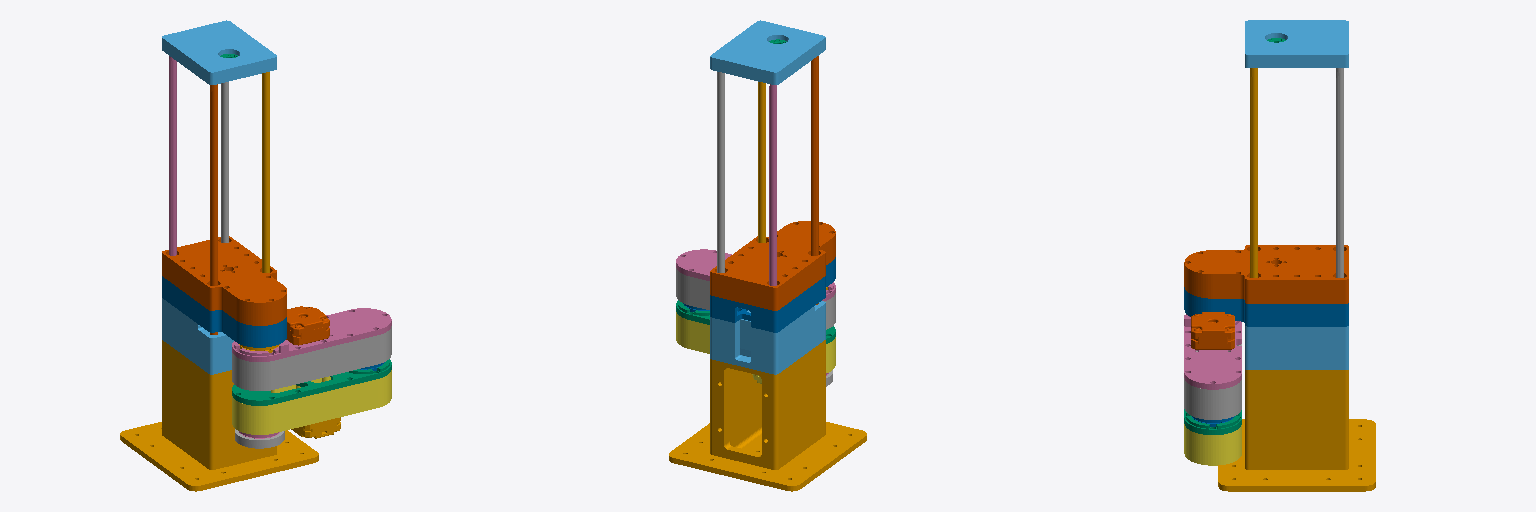
--- Render facts (derived) ---
3 views of the same robot in one strip: view 1: azimuth 30°, elevation 25°; view 2: azimuth 150°, elevation 25°; view 3: azimuth 270°, elevation 25° (orthographic).
Model URDF with 25 links and 24 joints (3 revolute, 1 prismatic, 20 fixed), rooted at base, posed all joints at 0.
Links seen in each view (by area): view 1: base, l1_platform_top, l3_bottom, anti_wobble, l2_bottom, l2_top, z_axis_mount, l1_platform_bottom, l3_top, linear_rod_1, linear_rod_4, linear_rod_2 (+3 smaller); view 2: base, l1_platform_top, anti_wobble, z_axis_mount, l1_platform_bottom, linear_rod_2, linear_rod_3, linear_rod_1, linear_rod_4, l2_bottom, l3_bottom, l2_top (+1 smaller); view 3: base, l1_platform_top, anti_wobble, z_axis_mount, l1_platform_bottom, l2_top, l2_bottom, l3_bottom, linear_rod_3, linear_rod_4, l3_stepper, l3_top.
Boxes of the visible links, left/top/right/bottom form: base: left=120, top=340, right=318, bottom=491; l1_platform_top: left=162, top=236, right=286, bottom=325; l3_bottom: left=232, top=370, right=391, bottom=434; anti_wobble: left=162, top=20, right=276, bottom=84; l2_bottom: left=232, top=326, right=391, bottom=390; l2_top: left=232, top=308, right=391, bottom=361; z_axis_mount: left=162, top=298, right=233, bottom=374; l1_platform_bottom: left=162, top=276, right=286, bottom=347; l3_top: left=232, top=359, right=391, bottom=405; linear_rod_1: left=210, top=84, right=217, bottom=334; linear_rod_4: left=262, top=72, right=269, bottom=272; linear_rod_2: left=169, top=56, right=176, bottom=255; base: left=669, top=340, right=866, bottom=491; l1_platform_top: left=710, top=221, right=835, bottom=310; anti_wobble: left=710, top=20, right=825, bottom=84; z_axis_mount: left=710, top=301, right=825, bottom=374; l1_platform_bottom: left=710, top=257, right=835, bottom=332; linear_rod_2: left=769, top=84, right=776, bottom=285; linear_rod_3: left=717, top=72, right=724, bottom=272; linear_rod_1: left=811, top=56, right=818, bottom=304; linear_rod_4: left=758, top=82, right=765, bottom=242; l2_bottom: left=676, top=268, right=835, bottom=329; l3_bottom: left=676, top=312, right=835, bottom=372; l2_top: left=676, top=249, right=835, bottom=300; base: left=1218, top=370, right=1375, bottom=491; l1_platform_top: left=1184, top=245, right=1348, bottom=303; anti_wobble: left=1245, top=20, right=1348, bottom=67; z_axis_mount: left=1245, top=326, right=1348, bottom=369; l1_platform_bottom: left=1184, top=287, right=1348, bottom=326; l2_top: left=1184, top=314, right=1241, bottom=389; l2_bottom: left=1184, top=344, right=1241, bottom=419; l3_bottom: left=1184, top=424, right=1241, bottom=465; linear_rod_3: left=1336, top=68, right=1343, bottom=277; linear_rod_4: left=1250, top=68, right=1257, bottom=277; l3_stepper: left=1191, top=312, right=1234, bottom=349; l3_top: left=1184, top=409, right=1241, bottom=434.
Size in the robot's own frame: 0.2225 by 0.1825 by 0.443 metres.
24 mesh visuals loaded from 18 distinct referenced files (17 binary STL); not drawn: 1 (reference not matched to a file when rendering).

The robot description file, URDF, robot "URDF":
<?xml version='1.0' encoding='utf-8'?>
<robot name="URDF">
    <link name="base">
        <inertial>
            <origin xyz="0.00015122651304084374 -0.0031189903972328945 0.04444615249588057" rpy="0.0 0.0 0.0" />
            <mass value="4.290391579347167" />
            <inertia ixx="0.010475179799747623" iyy="0.01011111532060361" izz="0.009773277269669556" ixy="-1.4675675020688755e-05" iyz="0.00023916465747799863" ixz="-3.676367466755517e-05" />
        </inertial>
        <visual name="base_visual">
            <origin xyz="0.0 0.0 0.0" rpy="0.0 0.0 0.0" />
            <geometry>
                <mesh filename="CAD/base.stl" scale="0.001 0.001 0.001" />
            </geometry>
        </visual>
        <collision name="base_collision">
            <origin xyz="0.0 0.0 0.0" rpy="0.0 0.0 0.0" />
            <geometry>
                <mesh filename="CAD/base.stl" scale="0.001 0.001 0.001" />
            </geometry>
        </collision>
    </link>
    <link name="z_axis_mount">
        <inertial>
            <origin xyz="-0.025336281060581275 -0.026473424084121407 -0.019149167134302817" rpy="0.0 -0.0 0.0" />
            <mass value="1.219346825267376" />
            <inertia ixx="0.0016285382162475291" iyy="0.0012017263657605887" izz="0.0023628340659233235" ixy="-1.6015951104122795e-05" iyz="5.947666844051728e-07" ixz="7.251262544824303e-06" />
        </inertial>
        <visual name="z_axis_mount_visual">
            <origin xyz="-0.02600000000000002 -0.027500000000000035 -1.7763568394002505e-17" rpy="-3.141592653589793 -8.673617379883935e-19 0.0" />
            <geometry>
                <mesh filename="CAD/z_axis_mount.stl" scale="0.001 0.001 0.001" />
            </geometry>
        </visual>
        <collision name="z_axis_mount_collision">
            <origin xyz="-0.02600000000000002 -0.027500000000000035 -1.7763568394002505e-17" rpy="-3.141592653589793 -8.673617379883935e-19 0.0" />
            <geometry>
                <mesh filename="CAD/z_axis_mount.stl" scale="0.001 0.001 0.001" />
            </geometry>
        </collision>
    </link>
    <link name="leadscrew">
        <inertial>
            <origin xyz="-5.999999999999999e-06 0.019506 -0.1504" rpy="0.0 -0.0 -2.9545531576914354e-126" />
            <mass value="0.0" />
            <inertia ixx="0.0" iyy="0.0" izz="0.0" ixy="0.0" iyz="0.0" ixz="0.0" />
        </inertial>
        <visual name="leadscrew_visual">
            <origin xyz="7.781535832362963e-17 4.4408920985006264e-17 0.1399999999999997" rpy="-9.413759555056153e-16 1.9959017602476978e-16 1.3877787807814558e-17" />
            <geometry>
                <mesh filename="CAD/leadscrew.stl" scale="0.001 0.001 0.001" />
            </geometry>
        </visual>
        <collision name="leadscrew_collision">
            <origin xyz="7.781535832362963e-17 4.4408920985006264e-17 0.1399999999999997" rpy="-9.413759555056153e-16 1.9959017602476978e-16 1.3877787807814558e-17" />
            <geometry>
                <mesh filename="CAD/leadscrew.stl" scale="0.001 0.001 0.001" />
            </geometry>
        </collision>
    </link>
    <link name="z_stepper">
        <inertial>
            <origin xyz="-0.015494022434730144 -0.015485213747267395 0.01954522526776273" rpy="0.0 -0.0 0.0" />
            <mass value="0.5336531870485284" />
            <inertia ixx="0.0001468942190243688" iyy="0.00014698482766301903" izz="0.00014346878090923498" ixy="-1.7053687028411382e-10" iyz="-7.402066846506732e-08" ixz="1.0643825587553933e-10" />
        </inertial>
        <visual name="z_stepper_visual">
            <origin xyz="-0.015493999999999935 -0.015494000000000048 -7.105427357601002e-17" rpy="3.141592653589793 -1.5407439555097887e-33 -8.545538810376762e-50" />
            <geometry>
                <mesh filename="CAD/stepper.stl" scale="0.001 0.001 0.001" />
            </geometry>
        </visual>
        <collision name="z_stepper_collision">
            <origin xyz="-0.015493999999999935 -0.015494000000000048 -7.105427357601002e-17" rpy="3.141592653589793 -1.5407439555097887e-33 -8.545538810376762e-50" />
            <geometry>
                <mesh filename="CAD/stepper.stl" scale="0.001 0.001 0.001" />
            </geometry>
        </collision>
    </link>
    <link name="coupler">
        <inertial>
            <origin xyz="-6.0879296473515345e-05 -3.517362488584697e-05 0.0027015645586280002" rpy="0.0 -0.0 0.0" />
            <mass value="0.04565801068487404" />
            <inertia ixx="3.796623903145756e-06" iyy="3.7975045946769597e-06" izz="2.255440706187826e-06" ixy="-8.521065824730197e-10" iyz="-1.4188305613943922e-11" ixz="-3.6910717260200724e-11" />
        </inertial>
        <visual name="coupler_visual">
            <origin xyz="7.781318991928466e-17 5.773159728050814e-17 0.0027000000000001203" rpy="-1.152564827459276e-15 -1.6907432184140867e-16 1.6452784996728192e-47" />
            <geometry>
                <mesh filename="CAD/coupler.stl" scale="0.001 0.001 0.001" />
            </geometry>
        </visual>
        <collision name="coupler_collision">
            <origin xyz="7.781318991928466e-17 5.773159728050814e-17 0.0027000000000001203" rpy="-1.152564827459276e-15 -1.6907432184140867e-16 1.6452784996728192e-47" />
            <geometry>
                <mesh filename="CAD/coupler.stl" scale="0.001 0.001 0.001" />
            </geometry>
        </collision>
    </link>
    <link name="linear_rod_1">
        <inertial>
            <origin xyz="-1.4005954844797942e-08 -5.102991122996059e-09 -0.15077924038070736" rpy="0.0 -0.0 0.0" />
            <mass value="0.11772565265799409" />
            <inertia ixx="0.0008743378388290316" iyy="0.0008743378381567152" izz="9.456474786703685e-07" ixy="-3.941504783146199e-13" iyz="7.900225417432905e-11" ixz="2.372042150373954e-10" />
        </inertial>
        <visual name="linear_rod_1_visual">
            <origin xyz="-8.526512829121202e-16 5.329070518200751e-17 -0.15000000000000005" rpy="-2.2588176397729135e-16 3.469184143700199e-18 9.353866652534959e-51" />
            <geometry>
                <mesh filename="CAD/linear_rod.stl" scale="0.001 0.001 0.001" />
            </geometry>
        </visual>
        <collision name="linear_rod_1_collision">
            <origin xyz="-8.526512829121202e-16 5.329070518200751e-17 -0.15000000000000005" rpy="-2.2588176397729135e-16 3.469184143700199e-18 9.353866652534959e-51" />
            <geometry>
                <mesh filename="CAD/linear_rod.stl" scale="0.001 0.001 0.001" />
            </geometry>
        </collision>
    </link>
    <link name="linear_rod_2">
        <inertial>
            <origin xyz="-1.4005955342177856e-08 -5.102991176286764e-09 -0.1507792403807071" rpy="0.0 -0.0 0.0" />
            <mass value="0.11772565265799409" />
            <inertia ixx="0.0008743378388290281" iyy="0.0008743378381567187" izz="9.456474786704227e-07" ixy="-3.94149963318588e-13" iyz="7.900225417432905e-11" ixz="2.37204214820555e-10" />
        </inertial>
        <visual name="linear_rod_2_visual">
            <origin xyz="-1.3500311979441904e-15 0.0 -0.1499999999999998" rpy="-1.836970198721035e-16 2.1250099772462548e-17 -2.5067028365650373e-50" />
            <geometry>
                <mesh filename="CAD/linear_rod.stl" scale="0.001 0.001 0.001" />
            </geometry>
        </visual>
        <collision name="linear_rod_2_collision">
            <origin xyz="-1.3500311979441904e-15 0.0 -0.1499999999999998" rpy="-1.836970198721035e-16 2.1250099772462548e-17 -2.5067028365650373e-50" />
            <geometry>
                <mesh filename="CAD/linear_rod.stl" scale="0.001 0.001 0.001" />
            </geometry>
        </collision>
    </link>
    <link name="linear_rod_3">
        <inertial>
            <origin xyz="-1.4005955040197193e-08 -5.1029927572443515e-09 -0.15077924038070725" rpy="0.0 -0.0 0.0" />
            <mass value="0.11772565265799409" />
            <inertia ixx="0.0008743378388290351" iyy="0.0008743378381567152" izz="9.456474786704769e-07" ixy="-3.9415053252472854e-13" iyz="7.900225395748861e-11" ixz="2.37204214820555e-10" />
        </inertial>
        <visual name="linear_rod_3_visual">
            <origin xyz="-1.0480505352461477e-15 -1.580957587066223e-15 -0.14999999999999994" rpy="-1.8912715711782494e-16 2.0816418903468226e-17 1.683802287865903e-49" />
            <geometry>
                <mesh filename="CAD/linear_rod.stl" scale="0.001 0.001 0.001" />
            </geometry>
        </visual>
        <collision name="linear_rod_3_collision">
            <origin xyz="-1.0480505352461477e-15 -1.580957587066223e-15 -0.14999999999999994" rpy="-1.8912715711782494e-16 2.0816418903468226e-17 1.683802287865903e-49" />
            <geometry>
                <mesh filename="CAD/linear_rod.stl" scale="0.001 0.001 0.001" />
            </geometry>
        </collision>
    </link>
    <link name="linear_rod_4">
        <inertial>
            <origin xyz="-1.400595122102999e-08 -5.102992597372235e-09 -0.1507792403807074" rpy="0.0 -0.0 0.0" />
            <mass value="0.11772565265799409" />
            <inertia ixx="0.0008743378388290299" iyy="0.000874337838156717" izz="9.456474786704227e-07" ixy="-3.941493670073931e-13" iyz="7.900225417432905e-11" ixz="2.37204214820555e-10" />
        </inertial>
        <visual name="linear_rod_4_visual">
            <origin xyz="2.771116669464391e-15 -1.4210854715202005e-15 -0.1500000000000001" rpy="-3.502304735658764e-16 1.1449148660621605e-16 -3.858753435262988e-49" />
            <geometry>
                <mesh filename="CAD/linear_rod.stl" scale="0.001 0.001 0.001" />
            </geometry>
        </visual>
        <collision name="linear_rod_4_collision">
            <origin xyz="2.771116669464391e-15 -1.4210854715202005e-15 -0.1500000000000001" rpy="-3.502304735658764e-16 1.1449148660621605e-16 -3.858753435262988e-49" />
            <geometry>
                <mesh filename="CAD/linear_rod.stl" scale="0.001 0.001 0.001" />
            </geometry>
        </collision>
    </link>
    <link name="anti_wobble">
        <inertial>
            <origin xyz="-0.0299999999999537 -0.04197030544660553 0.00498992236379145" rpy="0.0 -0.0 0.0" />
            <mass value="0.799924874759774" />
            <inertia ixx="0.0006794167067440959" iyy="0.00043064841533596576" izz="0.0010837228293559054" ixy="-5.464466420653419e-16" iyz="-2.2300968817722281e-07" ixz="-9.043433446657953e-18" />
        </inertial>
        <visual name="anti_wobble_visual">
            <origin xyz="-0.029999999999997244 -0.04100000000000142 -0.0020000000000001705" rpy="1.836970198721033e-16 4.930380657631325e-32 3.141592653589793" />
            <geometry>
                <mesh filename="CAD/anti_wobble.stl" scale="0.001 0.001 0.001" />
            </geometry>
        </visual>
        <collision name="anti_wobble_collision">
            <origin xyz="-0.029999999999997244 -0.04100000000000142 -0.0020000000000001705" rpy="1.836970198721033e-16 4.930380657631325e-32 3.141592653589793" />
            <geometry>
                <mesh filename="CAD/anti_wobble.stl" scale="0.001 0.001 0.001" />
            </geometry>
        </collision>
    </link>
    <link name="608_bearing">
        <inertial>
            <origin xyz="-3.2176178499046425e-12 -1.9654243010869266e-09 0.003500003027095815" rpy="0.0 -0.0 0.0" />
            <mass value="0.013900133524705328" />
            <inertia ixx="5.548892553991838e-07" iyy="5.548896663109398e-07" izz="9.919660080577528e-07" ixy="1.008781534295795e-15" iyz="-9.18780839170158e-14" ixz="-7.285394316173068e-16" />
        </inertial>
        <visual name="608_bearing_visual">
            <origin xyz="2.7755575615628914e-15 1.4632739464559563e-15 0.003500000000000156" rpy="-2.276161136010673e-16 -3.608224830031761e-16 2.4492935982947074e-16" />
            <geometry>
                <mesh filename="CAD/608_bearing.stl" scale="0.001 0.001 0.001" />
            </geometry>
        </visual>
        <collision name="608_bearing_collision">
            <origin xyz="2.7755575615628914e-15 1.4632739464559563e-15 0.003500000000000156" rpy="-2.276161136010673e-16 -3.608224830031761e-16 2.4492935982947074e-16" />
            <geometry>
                <mesh filename="CAD/608_bearing.stl" scale="0.001 0.001 0.001" />
            </geometry>
        </collision>
    </link>
    <link name="l1_T8_nut">
        <inertial>
            <origin xyz="0.007999999999984825 -1.7164047960704921e-15 -0.00029882999044883007" rpy="6.842277657836021e-49 -0.0 0.0" />
            <mass value="0.01084464903489282" />
            <inertia ixx="4.263484991595829e-07" iyy="4.2634849895049453e-07" izz="6.111635267785988e-07" ixy="-2.3378690323070968e-21" iyz="-6.776263578034402e-21" ixz="-2.8161460385793537e-19" />
        </inertial>
        <visual name="l1_T8_nut_visual">
            <origin xyz="0.00800000000000263 -1.6076029396572267e-15 3.552713678800501e-17" rpy="-3.141592653589793 6.421744201601272e-18 -7.395570986446987e-32" />
            <geometry>
                <mesh filename="CAD/l1_T8_nut.stl" scale="0.001 0.001 0.001" />
            </geometry>
        </visual>
        <collision name="l1_T8_nut_collision">
            <origin xyz="0.00800000000000263 -1.6076029396572267e-15 3.552713678800501e-17" rpy="-3.141592653589793 6.421744201601272e-18 -7.395570986446987e-32" />
            <geometry>
                <mesh filename="CAD/l1_T8_nut.stl" scale="0.001 0.001 0.001" />
            </geometry>
        </collision>
    </link>
    <link name="l1_platform_bottom">
        <inertial>
            <origin xyz="-0.029957080855250857 0.02648210886087121 0.00926514206259153" rpy="0.0 -0.0 0.0" />
            <mass value="0.7452016325179142" />
            <inertia ixx="0.0012422421567535244" iyy="0.0005644712058867594" izz="0.0017291317719342408" ixy="2.047971454006045e-06" iyz="-1.591982167226764e-05" ixz="3.310289600870783e-07" />
        </inertial>
        <visual name="l1_platform_bottom_visual">
            <origin xyz="-0.029999999999997157 0.04100000000000129 0.0" rpy="2.839955395218839e-17 -6.4217442015989036e-18 2.4651903288156624e-32" />
            <geometry>
                <mesh filename="CAD/l1_platform_bottom.stl" scale="0.001 0.001 0.001" />
            </geometry>
        </visual>
        <collision name="l1_platform_bottom_collision">
            <origin xyz="-0.029999999999997157 0.04100000000000129 0.0" rpy="2.839955395218839e-17 -6.4217442015989036e-18 2.4651903288156624e-32" />
            <geometry>
                <mesh filename="CAD/l1_platform_bottom.stl" scale="0.001 0.001 0.001" />
            </geometry>
        </collision>
    </link>
    <link name="l1_platform_top">
        <inertial>
            <origin xyz="0.031029535563690255 0.001758540865193048 0.016290692907798422" rpy="6.842277657836021e-49 -0.0 0.0" />
            <mass value="0.9185401166832554" />
            <inertia ixx="0.0018035682766356915" iyy="0.00062467698553037" izz="0.0023268483499385736" ixy="-4.948834918100276e-07" iyz="3.035628698007473e-05" ixz="-2.3764817303400686e-08" />
        </inertial>
        <visual name="l1_platform_top_visual">
            <origin xyz="0.031000000000001107 0.020000000000004032 0.0254999999999999" rpy="3.1415926535897922 -7.889724475210117e-18 -3.141592653589793" />
            <geometry>
                <mesh filename="CAD/l1_platform_top.stl" scale="0.001 0.001 0.001" />
            </geometry>
        </visual>
        <collision name="l1_platform_top_collision">
            <origin xyz="0.031000000000001107 0.020000000000004032 0.0254999999999999" rpy="3.1415926535897922 -7.889724475210117e-18 -3.141592653589793" />
            <geometry>
                <mesh filename="CAD/l1_platform_top.stl" scale="0.001 0.001 0.001" />
            </geometry>
        </collision>
    </link>
    <link name="l2_top">
        <inertial>
            <origin xyz="0.05598616840379046 0.00041399715062086174 0.002248359843700012" rpy="0.0 -0.0 0.0" />
            <mass value="0.39774050953148316" />
            <inertia ixx="9.884949686604465e-05" iyy="0.0010362392305255236" izz="0.0011283434495333033" ixy="3.7290956979288067e-06" iyz="4.154537376456838e-07" ixz="-1.6442871052812537e-05" />
        </inertial>
        <visual name="l2_top_visual">
            <origin xyz="2.842170943040401e-15 -1.2789769243681803e-15 0.00599999597342423" rpy="-3.141592653589793 4.110069457302548e-17 -1.2431211281837966e-15" />
            <geometry>
                <mesh filename="CAD/l2_top.stl" scale="0.001 0.001 0.001" />
            </geometry>
        </visual>
        <collision name="l2_top_collision">
            <origin xyz="2.842170943040401e-15 -1.2789769243681803e-15 0.00599999597342423" rpy="-3.141592653589793 4.110069457302548e-17 -1.2431211281837966e-15" />
            <geometry>
                <mesh filename="CAD/l2_top.stl" scale="0.001 0.001 0.001" />
            </geometry>
        </collision>
    </link>
    <link name="l2_bottom">
        <inertial>
            <origin xyz="-0.030915263941200682 -0.024227713888831454 -0.019577304943785182" rpy="0.0 -0.0 0.0" />
            <mass value="0.4458114698520535" />
            <inertia ixx="0.0002476349439185094" iyy="0.0013243130880477658" izz="0.0014812542111556559" ixy="-1.2853213770839741e-06" iyz="1.7482199829010198e-07" ixz="9.346483214642265e-06" />
        </inertial>
        <visual name="l2_bottom_visual">
            <origin xyz="-0.0899999999999972 -0.023999999999998724 -0.031999995973425364" rpy="2.8399553952191537e-17 -1.31066773475825e-16 1.2431211281837968e-15" />
            <geometry>
                <mesh filename="CAD/l2_bottom.stl" scale="0.001 0.001 0.001" />
            </geometry>
        </visual>
        <collision name="l2_bottom_collision">
            <origin xyz="-0.0899999999999972 -0.023999999999998724 -0.031999995973425364" rpy="2.8399553952191537e-17 -1.31066773475825e-16 1.2431211281837968e-15" />
            <geometry>
                <mesh filename="CAD/l2_bottom.stl" scale="0.001 0.001 0.001" />
            </geometry>
        </collision>
    </link>
    <link name="l2_51105_bearing">
        <inertial>
            <origin xyz="-8.57312705160318e-09 6.929187890136746e-11 0.005498380838743913" rpy="6.842277657836021e-49 -0.0 0.0" />
            <mass value="0.06452999288266215" />
            <inertia ixx="1.0782478912318632e-05" iyy="1.0782489776737155e-05" izz="2.0179914156482227e-05" ixy="1.324252457637594e-11" iyz="-1.1416231458435953e-12" ixz="-1.006611104868297e-12" />
        </inertial>
        <visual name="l2_51105_bearing_visual">
            <origin xyz="0.004104820587147202 -0.0025223334871125403 0.0025905664427120457" rpy="-3.1415926535897927 -5.1714970230890255e-19 -4.930380657631324e-32" />
            <geometry>
                <mesh filename="CAD/51105_bearing.stl" scale="0.001 0.001 0.001" />
            </geometry>
        </visual>
        <collision name="l2_51105_bearing_collision">
            <origin xyz="0.004104820587147202 -0.0025223334871125403 0.0025905664427120457" rpy="-3.1415926535897927 -5.1714970230890255e-19 -4.930380657631324e-32" />
            <geometry>
                <mesh filename="CAD/51105_bearing.stl" scale="0.001 0.001 0.001" />
            </geometry>
        </collision>
    </link>
    <link name="l2_stepper">
        <inertial>
            <origin xyz="0.015494022434883663 -0.01800278625266842 0.01954522526776284" rpy="6.842277657836021e-49 -0.0 0.0" />
            <mass value="0.5336531870485284" />
            <inertia ixx="0.00014689421902436788" iyy="0.00014698482766301724" izz="0.00014346878090923523" ixy="-1.7053687031880903e-10" iyz="7.402066846571782e-08" ixz="-1.0643825593541396e-10" />
        </inertial>
        <visual name="l2_stepper_visual">
            <origin xyz="0.015494000000153458 -0.017993999999935763 0.0" rpy="3.1415926535897922 6.987504925707166e-17 -3.141592653589793" />
            <geometry>
                <mesh filename="CAD/stepper.stl" scale="0.001 0.001 0.001" />
            </geometry>
        </visual>
        <collision name="l2_stepper_collision">
            <origin xyz="0.015494000000153458 -0.017993999999935763 0.0" rpy="3.1415926535897922 6.987504925707166e-17 -3.141592653589793" />
            <geometry>
                <mesh filename="CAD/stepper.stl" scale="0.001 0.001 0.001" />
            </geometry>
        </collision>
    </link>
    <link name="l3_top">
        <inertial>
            <origin xyz="-0.05033034580692551 -5.738331588531764e-05 -0.002192122308806859" rpy="0.0 -0.0 0.0" />
            <mass value="0.3401437922153019" />
            <inertia ixx="9.293547026942642e-05" iyy="0.0009423968227493815" izz="0.0010291887990210992" ixy="4.214715225570173e-06" iyz="4.0443104091375526e-09" ixz="-1.4046748482375235e-05" />
        </inertial>
        <visual name="l3_top_visual">
            <origin xyz="4.884981308350689e-15 1.4210854715202005e-15 -0.006000001946849701" rpy="-2.839955395218903e-17 2.378155083282479e-16 -3.1415926535897922" />
            <geometry>
                <mesh filename="CAD/l3_top.stl" scale="0.001 0.001 0.001" />
            </geometry>
        </visual>
        <collision name="l3_top_collision">
            <origin xyz="4.884981308350689e-15 1.4210854715202005e-15 -0.006000001946849701" rpy="-2.839955395218903e-17 2.378155083282479e-16 -3.1415926535897922" />
            <geometry>
                <mesh filename="CAD/l3_top.stl" scale="0.001 0.001 0.001" />
            </geometry>
        </collision>
    </link>
    <link name="l3_bottom">
        <inertial>
            <origin xyz="0.033193835323998305 0.024299619596403296 -0.020231699915423382" rpy="0.0 -0.0 0.0" />
            <mass value="0.47409870902458456" />
            <inertia ixx="0.0002530796169601616" iyy="0.0013751644633297174" izz="0.0015311102721777122" ixy="1.029375720069687e-06" iyz="1.7493885849000426e-07" ixz="1.7541257759019248e-06" />
        </inertial>
        <visual name="l3_bottom_visual">
            <origin xyz="0.09000000000000492 0.024000000000001426 -0.032000001946849696" rpy="-1.958679305216033e-16 8.36792821915997e-16 -3.1415926535897922" />
            <geometry>
                <mesh filename="CAD/l3_bottom.stl" scale="0.001 0.001 0.001" />
            </geometry>
        </visual>
        <collision name="l3_bottom_collision">
            <origin xyz="0.09000000000000492 0.024000000000001426 -0.032000001946849696" rpy="-1.958679305216033e-16 8.36792821915997e-16 -3.1415926535897922" />
            <geometry>
                <mesh filename="CAD/l3_bottom.stl" scale="0.001 0.001 0.001" />
            </geometry>
        </collision>
    </link>
    <link name="l3_51105_bearing">
        <inertial>
            <origin xyz="-6.928829066055187e-11 -8.573128447153521e-09 -0.00549838110810569" rpy="0.0 -0.0 0.0" />
            <mass value="0.06452999288266215" />
            <inertia ixx="1.0782489776738242e-05" iyy="1.0782478912319503e-05" izz="2.0179914156483745e-05" ixy="-1.3242524481496543e-11" iyz="-1.0066109187509276e-12" ixz="1.1416232542638127e-12" />
        </inertial>
        <visual name="l3_51105_bearing_visual">
            <origin xyz="0.002522333487116164 0.004104820587145888 -0.008406195504137647" rpy="3.141592653589793 -2.839955395219168e-17 1.5707963267948972" />
            <geometry>
                <mesh filename="CAD/51105_bearing.stl" scale="0.001 0.001 0.001" />
            </geometry>
        </visual>
        <collision name="l3_51105_bearing_collision">
            <origin xyz="0.002522333487116164 0.004104820587145888 -0.008406195504137647" rpy="3.141592653589793 -2.839955395219168e-17 1.5707963267948972" />
            <geometry>
                <mesh filename="CAD/51105_bearing.stl" scale="0.001 0.001 0.001" />
            </geometry>
        </collision>
    </link>
    <link name="l3_stepper">
        <inertial>
            <origin xyz="0.01750000312485419 -0.01554669066310379 0.009868508563092142" rpy="0.0 -0.0 0.0" />
            <mass value="0.27994326563900734" />
            <inertia ixx="4.888679289550939e-05" iyy="4.913290235489254e-05" izz="7.574834846792817e-05" ixy="-1.7934243499995173e-13" iyz="8.733043119213413e-08" ixz="-4.5701823402077846e-12" />
        </inertial>
        <visual name="l3_stepper_visual">
            <origin xyz="0.03850000000000449 -0.036500000000002426 0.01489075848070252" rpy="1.5707963267948966 -8.684957865380149e-16 1.5707963267948974" />
            <geometry>
                <mesh filename="CAD/stepper_pancake.stl" scale="0.001 0.001 0.001" />
            </geometry>
        </visual>
        <collision name="l3_stepper_collision">
            <origin xyz="0.03850000000000449 -0.036500000000002426 0.01489075848070252" rpy="1.5707963267948966 -8.684957865380149e-16 1.5707963267948974" />
            <geometry>
                <mesh filename="CAD/stepper_pancake.stl" scale="0.001 0.001 0.001" />
            </geometry>
        </collision>
    </link>
    <link name="ee_51105_bearing">
        <inertial>
            <origin xyz="6.929811058320468e-11 8.573128607025638e-09 0.005498382785593794" rpy="0.0 -0.0 0.0" />
            <mass value="0.06452999288266215" />
            <inertia ixx="1.0782489776737592e-05" iyy="1.0782478912319123e-05" izz="2.0179914156483582e-05" ixy="-1.3242524575178157e-11" iyz="1.0066110813812534e-12" ixz="-1.1416231596290962e-12" />
        </inertial>
        <visual name="ee_51105_bearing_visual">
            <origin xyz="-0.0025223334871063586 -0.00410482058714571 0.002590568389561838" rpy="3.141592653589793 2.8399553952176776e-17 -1.570796326794898" />
            <geometry>
                <mesh filename="CAD/51105_bearing.stl" scale="0.001 0.001 0.001" />
            </geometry>
        </visual>
        <collision name="ee_51105_bearing_collision">
            <origin xyz="-0.0025223334871063586 -0.00410482058714571 0.002590568389561838" rpy="3.141592653589793 2.8399553952176776e-17 -1.570796326794898" />
            <geometry>
                <mesh filename="CAD/51105_bearing.stl" scale="0.001 0.001 0.001" />
            </geometry>
        </collision>
    </link>
    <link name="ee_mount">
        <inertial>
            <origin xyz="7.068796091756145e-05 6.293203778788836e-06 0.000638562145002437" rpy="0.0 -0.0 -4.125432310736003e-113" />
            <mass value="0.11698008918556412" />
            <inertia ixx="2.0315798583277114e-05" iyy="2.050713994840677e-05" izz="3.694365287956877e-05" ixy="-1.716558959097301e-08" iyz="4.1509956141328776e-09" ixz="4.81970170651092e-08" />
        </inertial>
        <visual name="ee_mount_visual">
            <origin xyz="4.938272013532697e-15 -1.2789769243681803e-15 0.005999997920274148" rpy="-3.141592653589793 6.5995716475792784e-18 -1.367370697150656e-15" />
            <geometry>
                <mesh filename="CAD/ee_mount.stl" scale="0.001 0.001 0.001" />
            </geometry>
        </visual>
        <collision name="ee_mount_collision">
            <origin xyz="4.938272013532697e-15 -1.2789769243681803e-15 0.005999997920274148" rpy="-3.141592653589793 6.5995716475792784e-18 -1.367370697150656e-15" />
            <geometry>
                <mesh filename="CAD/ee_mount.stl" scale="0.001 0.001 0.001" />
            </geometry>
        </collision>
    </link>
    <link name="ee_stepper">
        <inertial>
            <origin xyz="0.016500003124842236 -0.015546690663103312 0.00986850648336607" rpy="0.0 -0.0 0.0" />
            <mass value="0.27994326563900734" />
            <inertia ixx="4.8886792895508086e-05" iyy="4.913290235488885e-05" izz="7.574834846792557e-05" ixy="-1.7934265184038622e-13" iyz="8.733043119126677e-08" ixz="-4.570181798106698e-12" />
        </inertial>
        <visual name="ee_stepper_visual">
            <origin xyz="0.037499999999992484 -0.036500000000001975 0.014890756400976405" rpy="1.5707963267948977 -8.684957865380168e-16 1.570796326794896" />
            <geometry>
                <mesh filename="CAD/stepper_pancake.stl" scale="0.001 0.001 0.001" />
            </geometry>
        </visual>
        <collision name="ee_stepper_collision">
            <origin xyz="0.037499999999992484 -0.036500000000001975 0.014890756400976405" rpy="1.5707963267948977 -8.684957865380168e-16 1.570796326794896" />
            <geometry>
                <mesh filename="CAD/stepper_pancake.stl" scale="0.001 0.001 0.001" />
            </geometry>
        </collision>
    </link>
        <joint name="z_axis_mount_Scorrimento-31" type="prismatic">
        <origin xyz="0.003999999999999999 0.013499999999999996 -0.046" rpy="3.141592653589793 -0.0 0.0" />
        <parent link="z_axis_mount" />
        <child link="l1_platform_bottom" />
        <axis xyz="0.0 0.0 1.0" />
        <limit lower="0.0" upper="0.18" effort="1000000" velocity="1000000" />
    </joint>
    <joint name="base_Rigido-3" type="fixed">
        <origin xyz="0.026000000000000002 -0.0275 0.111" rpy="3.141592653589793 -0.0 0.0" />
        <parent link="base" />
        <child link="z_axis_mount" />
    </joint>
    <joint name="z_axis_mount_Rigido-4" type="fixed">
        <origin xyz="-0.0105 0.0075 0.0" rpy="0.0 -0.0 0.0" />
        <parent link="z_axis_mount" />
        <child link="z_stepper" />
    </joint>
    <joint name="coupler_Rigido-5" type="fixed">
        <origin xyz="0.0 0.0 0.015399999999999992" rpy="-1.232595164407831e-32 2.465190328815662e-32 2.1271369958606197e-63" />
        <parent link="coupler" />
        <child link="leadscrew" />
    </joint>
    <joint name="z_axis_mount_Rigido-7" type="fixed">
        <origin xyz="-0.055999999999999994 0.013499999999999996 -0.03" rpy="0.0 -0.0 0.0" />
        <parent link="z_axis_mount" />
        <child link="linear_rod_1" />
    </joint>
    <joint name="z_axis_mount_Rigido-8" type="fixed">
        <origin xyz="-0.055999999999999994 -0.06849999999999999 -0.03" rpy="0.0 -0.0 0.0" />
        <parent link="z_axis_mount" />
        <child link="linear_rod_2" />
    </joint>
    <joint name="z_axis_mount_Rigido-9" type="fixed">
        <origin xyz="0.003999999999999999 -0.06849999999999999 -0.03" rpy="0.0 -0.0 0.0" />
        <parent link="z_axis_mount" />
        <child link="linear_rod_3" />
    </joint>
    <joint name="z_axis_mount_Rigido-10" type="fixed">
        <origin xyz="0.003999999999999999 0.013499999999999996 -0.03" rpy="0.0 -0.0 0.0" />
        <parent link="z_axis_mount" />
        <child link="linear_rod_4" />
    </joint>
    <joint name="l1_platform_bottom_Rigido-11" type="fixed">
        <origin xyz="-0.038 0.021499999999999995 0.006000000000000014" rpy="-3.141592653589793 -0.0 -3.575378658000282e-49" />
        <parent link="l1_platform_bottom" />
        <child link="l1_T8_nut" />
    </joint>
    <joint name="z_stepper_Rigido-13" type="fixed">
        <origin xyz="-0.015494 -0.015494 -0.024000000000000004" rpy="-3.141592653589793 -0.0 1.298208104246751e-67" />
        <parent link="z_stepper" />
        <child link="coupler" />
    </joint>
    <joint name="l1_platform_bottom_Rigido-14" type="fixed">
        <origin xyz="-0.061 0.020999999999999998 0.02400000000000002" rpy="6.162975822039155e-33 -0.0 -3.575378658000282e-49" />
        <parent link="l1_platform_bottom" />
        <child link="l1_platform_top" />
    </joint>
    <joint name="linear_rod_4_Rigido-15" type="fixed">
        <origin xyz="0.0 0.0 -0.3" rpy="9.860761315262648e-32 -0.0 0.0" />
        <parent link="linear_rod_4" />
        <child link="anti_wobble" />
    </joint>
    <joint name="l1_platform_bottom_Rigido-17" type="fixed">
        <origin xyz="-0.03 -0.03900000000000001 0.0010000000000000143" rpy="-3.141592653589793 -0.0 -3.575378658000282e-49" />
        <parent link="l1_platform_bottom" />
        <child link="l2_51105_bearing" />
    </joint>
    <joint name="l2_51105_bearing_Rivoluzione-19" type="revolute">
        <origin xyz="-2.710913105221029e-34 0.0 0.010996770000000015" rpy="-6.162975822039155e-33 -2.6317740138327936e-81 -4.2702974826242526e-49" />
        <parent link="l2_51105_bearing" />
        <child link="l2_top" />
        <axis xyz="-0.0 0.0 1.0" />
        <limit lower="0.0" upper="3.141593" effort="1000000" velocity="1000000" />
    </joint>
    <joint name="l2_top_Rigido-20" type="fixed">
        <origin xyz="0.09 -0.024000000000000004 0.005999999999999997" rpy="3.141592653589793 -0.0 -5.503376651748532e-48" />
        <parent link="l2_top" />
        <child link="l2_bottom" />
    </joint>
    <joint name="l1_platform_bottom_Rigido-21" type="fixed">
        <origin xyz="-0.0455 0.0405 0.0" rpy="-3.141592653589793 -0.0 -3.575378658000282e-49" />
        <parent link="l1_platform_bottom" />
        <child link="l2_stepper" />
    </joint>
    <joint name="anti_wobble_Rigido-22" type="fixed">
        <origin xyz="-0.03 -0.021499999999999995 0.01" rpy="3.141592653589793 8.930854384075464e-79 9.056962336419341e-48" />
        <parent link="anti_wobble" />
        <child link="608_bearing" />
    </joint>
    <joint name="l2_top_Rigido-23" type="fixed">
        <origin xyz="0.0325 -0.015499999999999998 0.0" rpy="3.141592653589793 -0.0 -5.503376651748532e-48" />
        <parent link="l2_top" />
        <child link="l3_stepper" />
    </joint>
    <joint name="l2_bottom_Rigido-24" type="fixed">
        <origin xyz="0.03 -0.024000000000000004 -0.030999999999999996" rpy="0.0 -2.4781487288111424e-80 4.0210262061213034e-48" />
        <parent link="l2_bottom" />
        <child link="l3_51105_bearing" />
    </joint>
    <joint name="l3_51105_bearing_Rivoluzione-25" type="revolute">
        <origin xyz="0.0 0.0 -0.010996760000000006" rpy="6.162975822039155e-33 -6.162975822039155e-33 -1.2228926112447996e-33" />
        <parent link="l3_51105_bearing" />
        <child link="l3_top" />
        <axis xyz="-6.162975822039155e-33 -0.0 -1.0" />
        <limit lower="-1.22173" upper="4.712389" effort="1000000" velocity="1000000" />
    </joint>
    <joint name="l3_top_Rigido-26" type="fixed">
        <origin xyz="-0.09 -0.024000000000000004 -0.005999999999999997" rpy="-6.117533459552187e-64 6.162975822039155e-33 1.2228926112447658e-33" />
        <parent link="l3_top" />
        <child link="l3_bottom" />
    </joint>
    <joint name="l3_bottom_Rigido-27" type="fixed">
        <origin xyz="-0.03 0.024000000000000004 -0.030999999999999996" rpy="3.141592653589793 -0.0 -6.310936878636713e-46" />
        <parent link="l3_bottom" />
        <child link="ee_51105_bearing" />
    </joint>
    <joint name="ee_51105_bearing_Rivoluzione-28" type="revolute">
        <origin xyz="-1.084365242088408e-33 0.0 0.010996769999999998" rpy="2.465190328815662e-32 -6.162975822039155e-33 -1.2228926112448176e-33" />
        <parent link="ee_51105_bearing" />
        <child link="ee_mount" />
        <axis xyz="6.162975822039155e-33 2.465190328815662e-32 1.0" />
        <limit lower="0.0" upper="5.585054" effort="1000000" velocity="1000000" />
    </joint>
    <joint name="l3_bottom_Rigido-29" type="fixed">
        <origin xyz="0.016500000000000004 0.008499999999999997 -0.031999999999999994" rpy="3.141592653589793 -0.0 -6.310936878636713e-46" />
        <parent link="l3_bottom" />
        <child link="ee_stepper" />
    </joint>
</robot>
